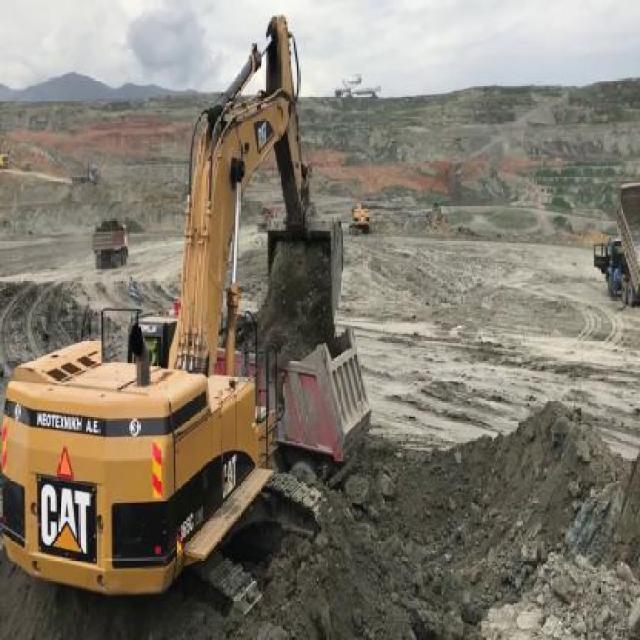Dump Truck: (273, 324, 372, 479), (604, 183, 639, 312), (95, 221, 128, 267)
Excavator: (0, 11, 349, 638), (352, 200, 370, 235)
